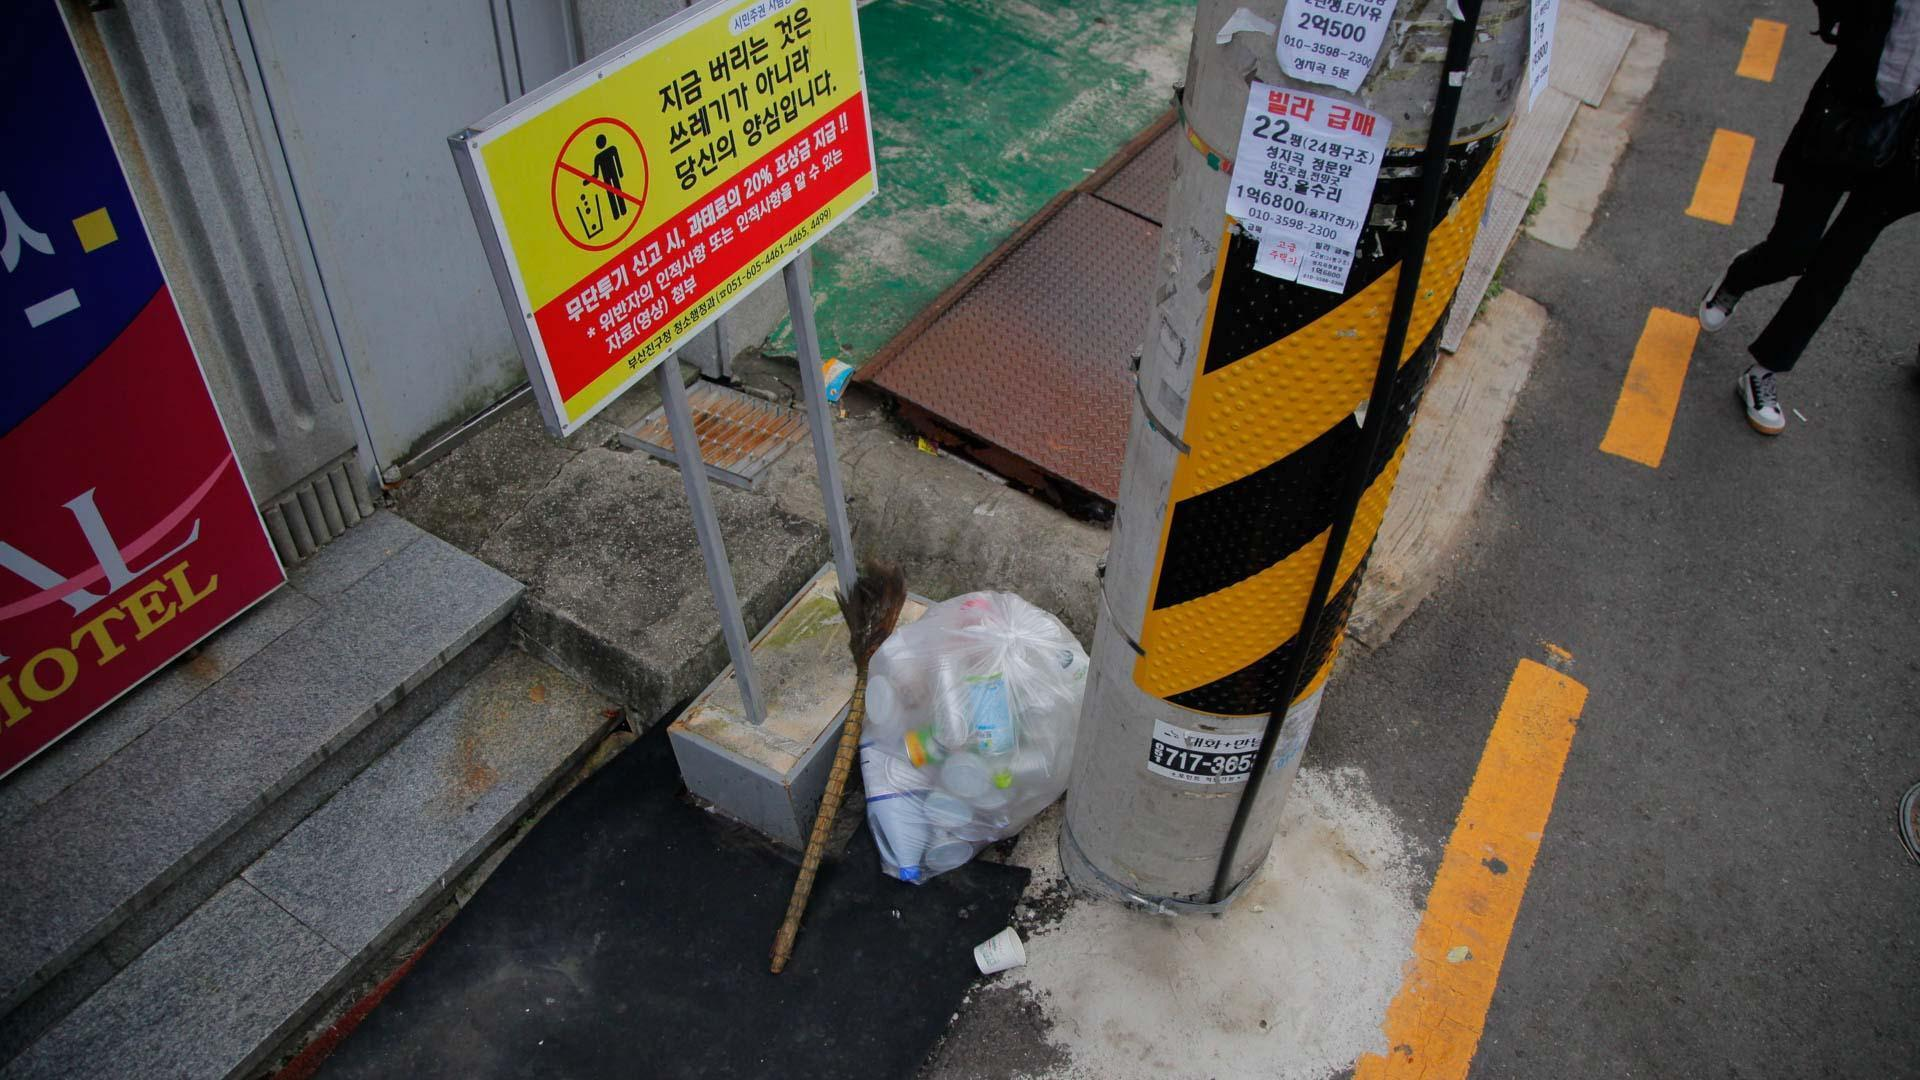white_bag: (837, 582, 1105, 901)
